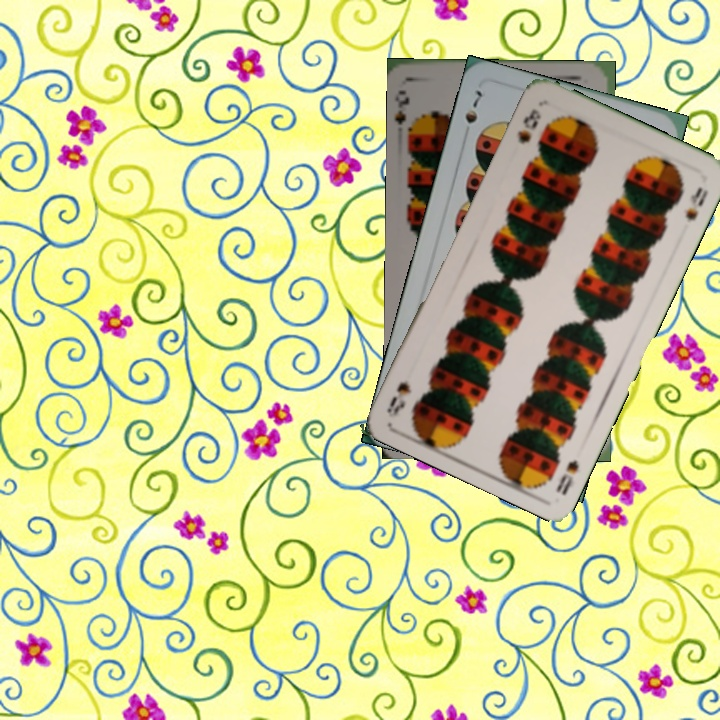S7: (459, 86, 485, 142)
S8: (513, 104, 544, 147), (552, 455, 582, 498)
S9: (393, 86, 420, 142)
